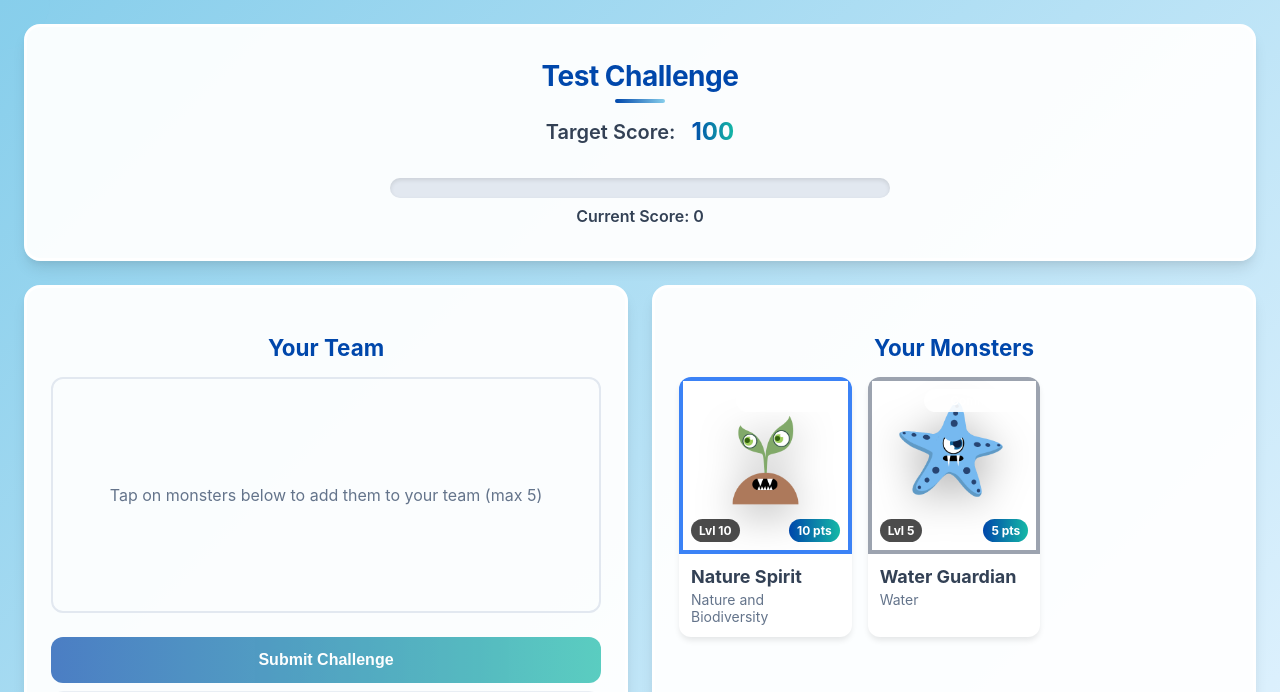
Test case: MonsterChallengePage Component › allows submitting challenge when team is ready
# Add monster to team
Click the heading "Nature Spirit" at (746, 576), box [691, 566, 802, 587]
(page scrolled)
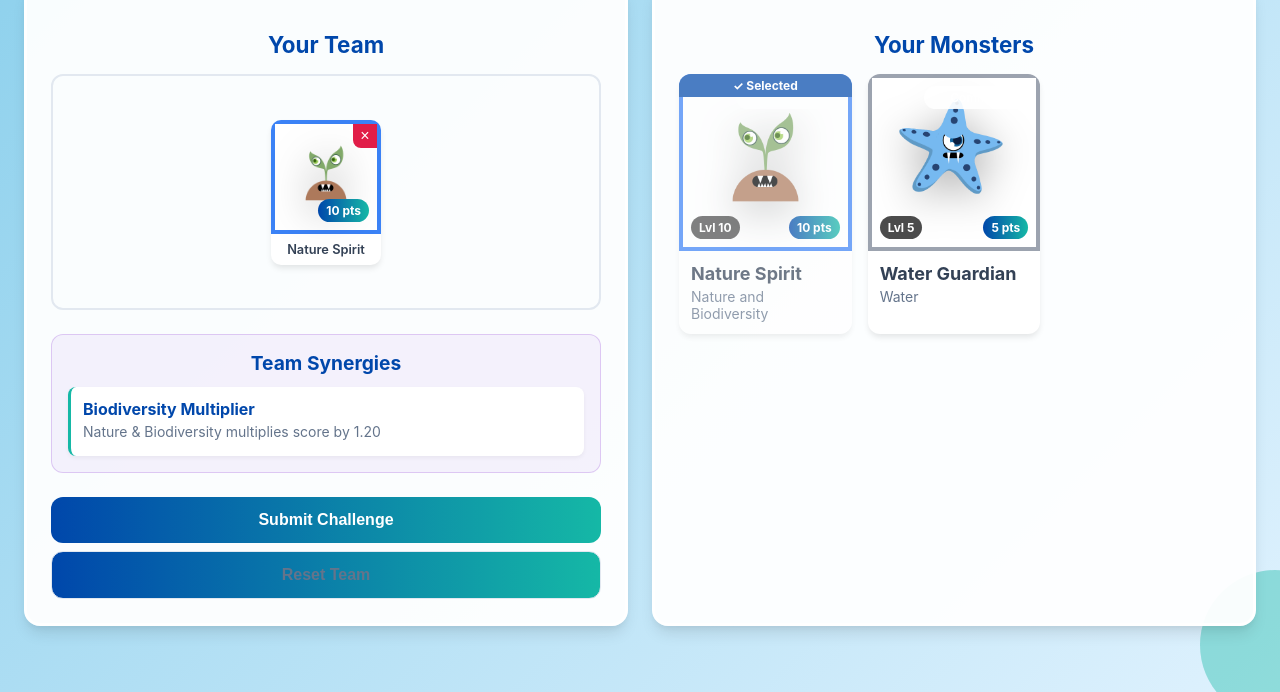
Expected: the button "Submit Challenge" is enabled
# Submit the challenge
Click the button "Submit Challenge" at (326, 520), box [51, 497, 601, 543]
(page scrolled)
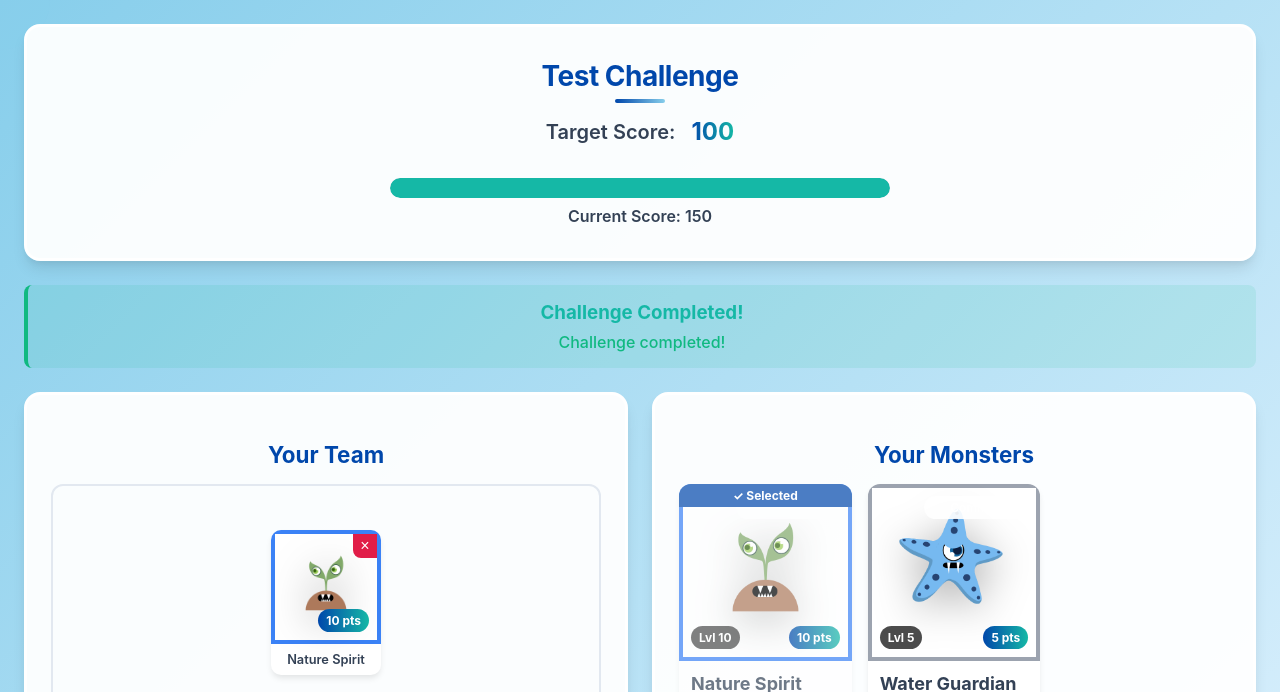
Expected: the heading "Challenge Completed!" is shown, [540, 301, 744, 324]
